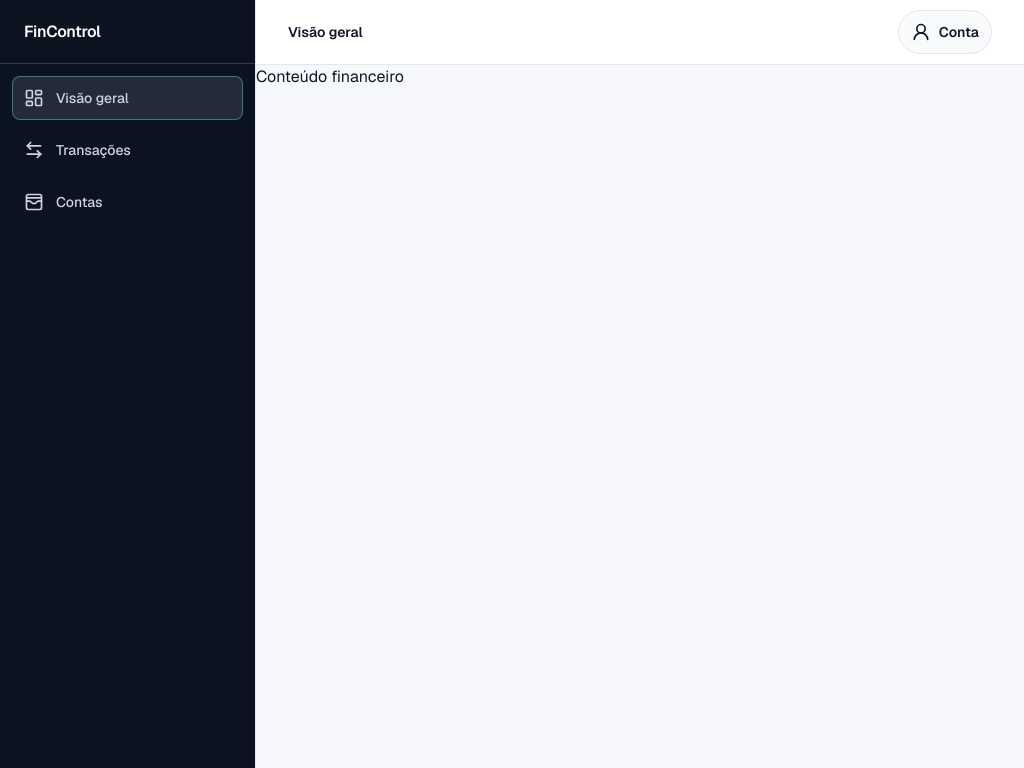
Test: PrivateAppShell › opens a named responsive account dialog with session, theme and logout
The image size is (1024, 768).
What coordinates should you click on to do the following:
click the button with aria-label "Abrir painel da conta"
I would click on:
 (945, 32)
Its box is [898, 10, 992, 54].
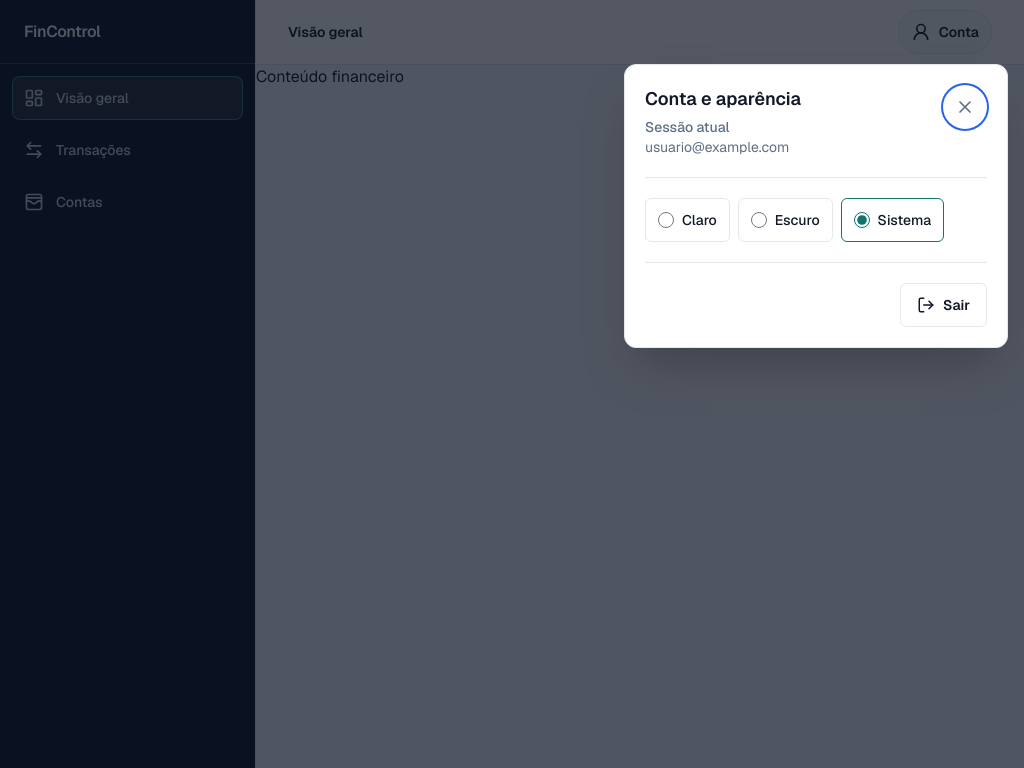
Check: the button with aria-label "Abrir painel da conta" is expanded, box [898, 10, 992, 54]
Check: the text "usuario@example.com" is shown, box [645, 137, 801, 157]
Check: the element "tema" is shown, box [645, 198, 944, 242]
